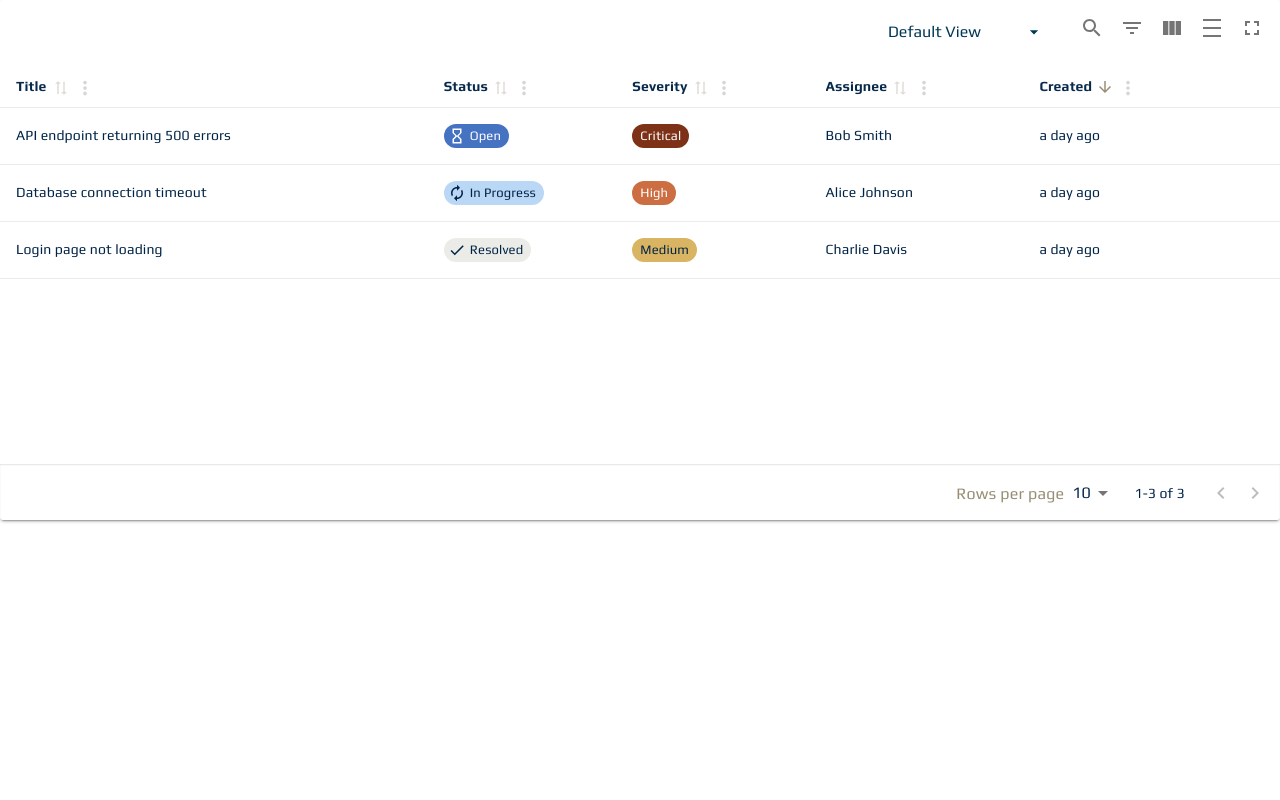
Saved Views Integration Tests › Component Integration (T036, T038) › opens SaveViewPanel when "Create New View" is clicked
This screenshot has width=1280, height=800.
Expected: the text "Database connection timeout" is shown, [0,165,428,222]
Expected: the text "Save View" is not shown
# Open the saved views dropdown
Click the button "Default View" at (964, 32), box [864,8,1064,56]
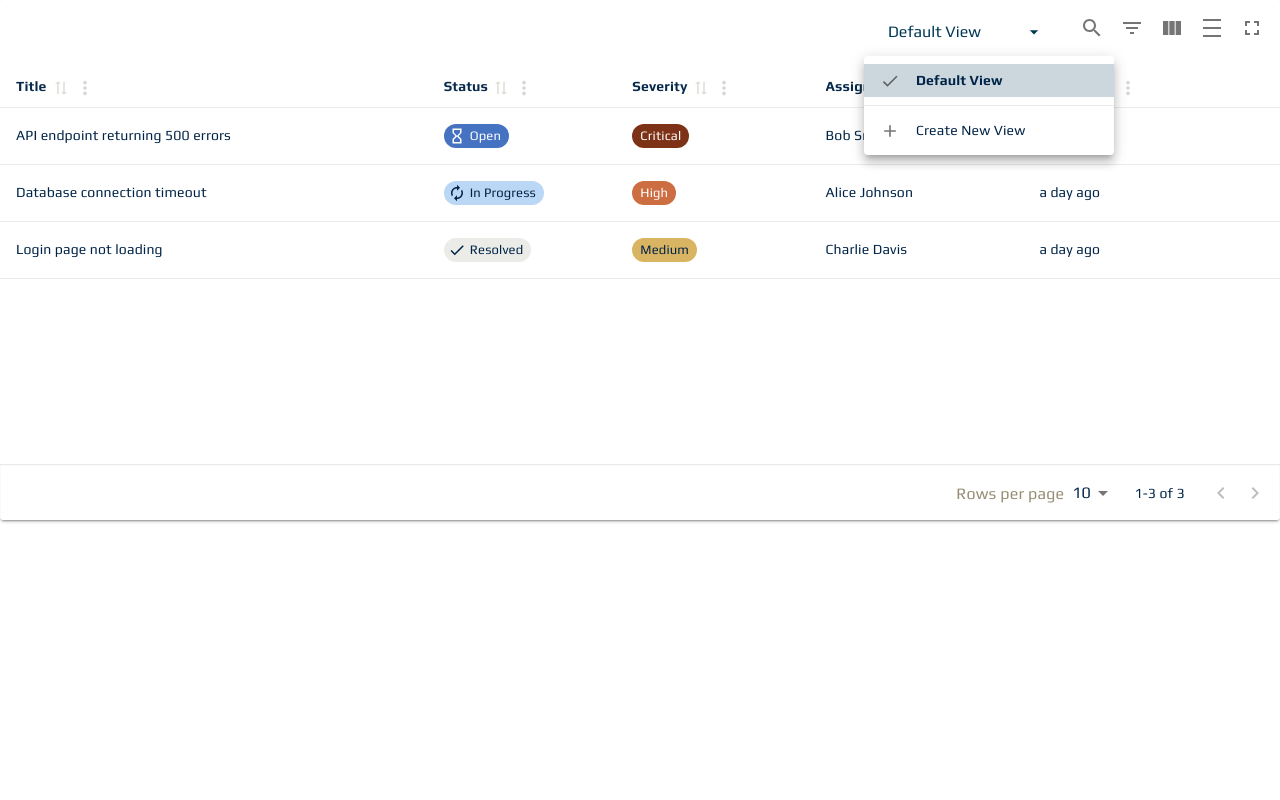
Expected: the text "Create New View" is shown, [916,122,1026,138]
Click the menu item "Create New View" at (953, 130), box [880,120,1026,140]
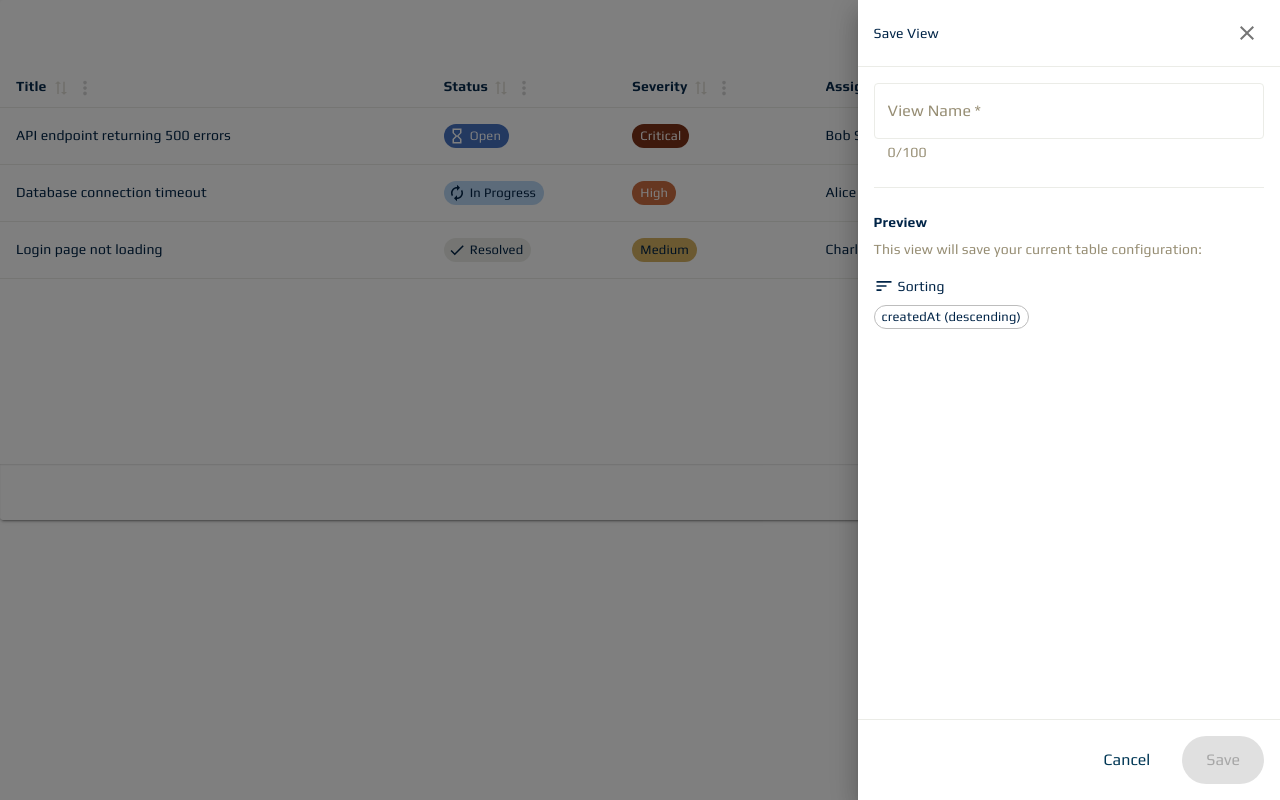
Expected: the heading "Save View" is shown, [874,25,939,41]
